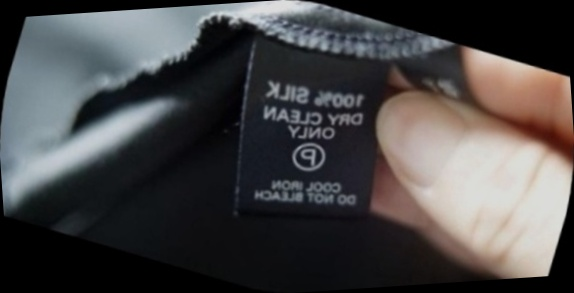dry_clean_any_solvent_except_trichloroethylene: (281, 130, 335, 182)
